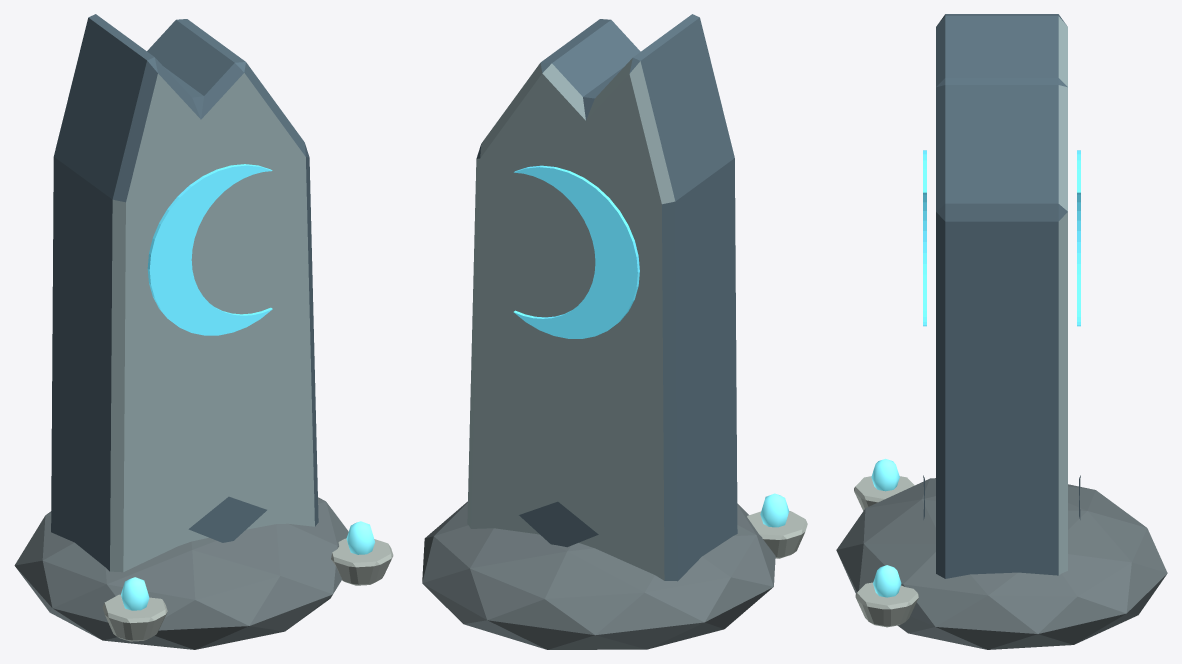
File: moonstone.glb
3 views of the same model, side by side, from view 1: azimuth 30°, elevation 25°; view 2: azimuth 150°, elevation 25°; view 3: azimuth 270°, elevation 25° (orthographic). The views are drawn at different scales.
Parts seen in each view (by area): view 1: Pigment_a8c1c5, Pigment_727f83, Pigment_58bacb, Pigment_bdc9c3, Pigment_627c8b, Pigment_7ed4dc; view 2: Pigment_a8c1c5, Pigment_727f83, Pigment_58bacb, Pigment_627c8b, Pigment_bdc9c3, Pigment_7ed4dc; view 3: Pigment_a8c1c5, Pigment_727f83, Pigment_bdc9c3, Pigment_7ed4dc, Pigment_58bacb.
Boxes of the visible parts, x1,y1,x2,y2 form: Pigment_a8c1c5: (51,14,318,572); Pigment_727f83: (14,497,348,649); Pigment_58bacb: (147,164,272,335); Pigment_bdc9c3: (102,538,393,641); Pigment_627c8b: (188,496,266,542); Pigment_7ed4dc: (121,521,374,610); Pigment_a8c1c5: (467,14,737,581); Pigment_727f83: (422,501,775,649); Pigment_58bacb: (513,165,639,338); Pigment_627c8b: (519,501,598,547); Pigment_bdc9c3: (747,511,807,558); Pigment_7ed4dc: (760,493,789,527); Pigment_a8c1c5: (936,14,1067,578); Pigment_727f83: (836,478,1167,649); Pigment_bdc9c3: (854,476,918,627); Pigment_7ed4dc: (871,458,901,597); Pigment_58bacb: (923,150,1080,326).
Size of the model in its own units: 2.18 by 3.99 by 2.11.
